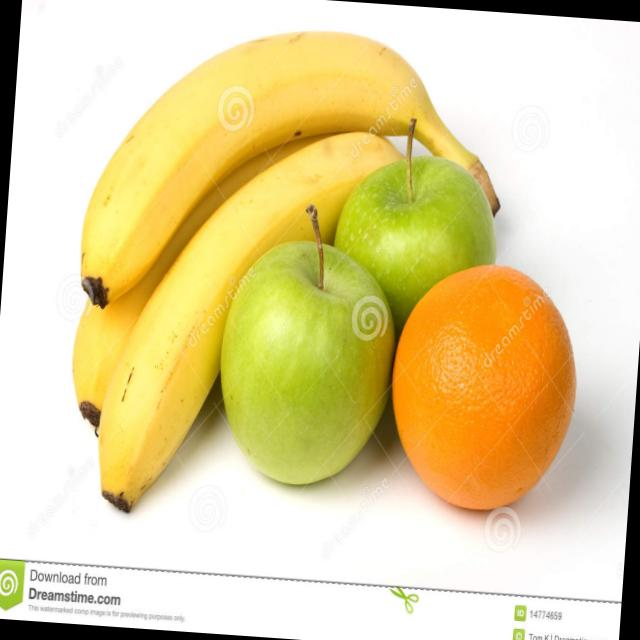banana: (68, 103, 426, 540), (72, 15, 448, 325)
orange: (376, 252, 582, 538)
